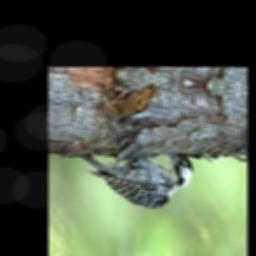Woodpecker: (79, 142, 194, 217)
